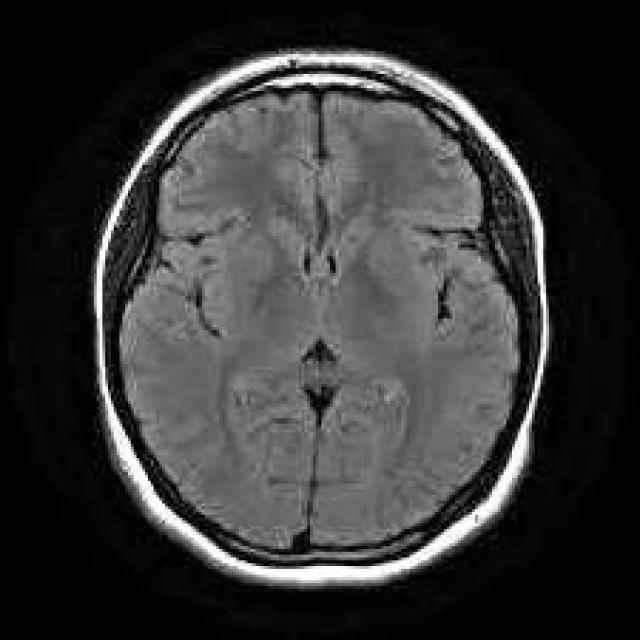notumor: (94, 51, 552, 594)
